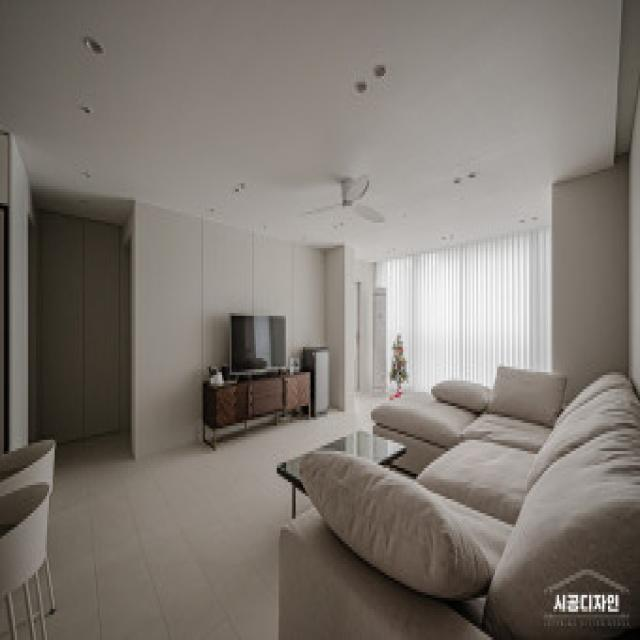Sofa: (309, 365, 640, 639)
tv: (227, 309, 288, 376)
window: (396, 250, 549, 355)
